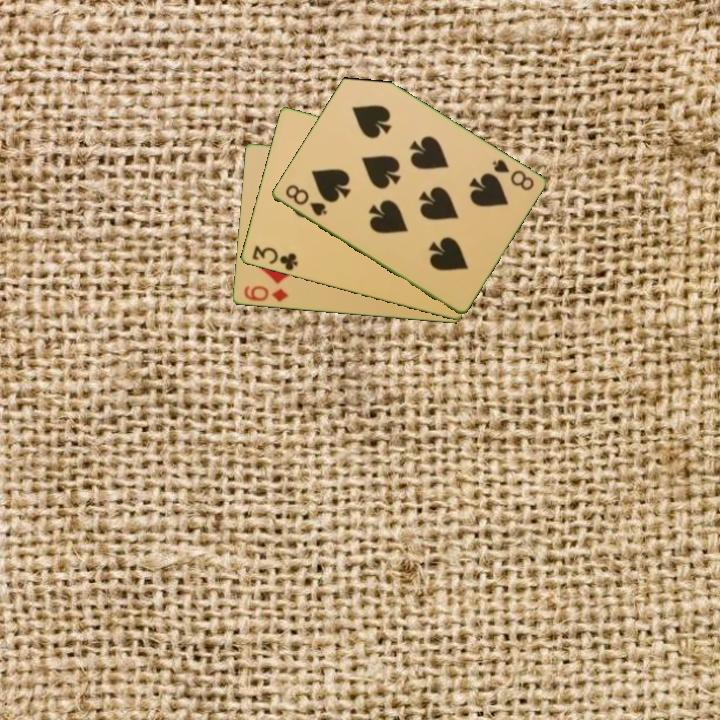3c: (248, 242, 301, 274)
6d: (240, 282, 291, 305)
8s: (281, 181, 330, 219), (488, 156, 537, 194)
